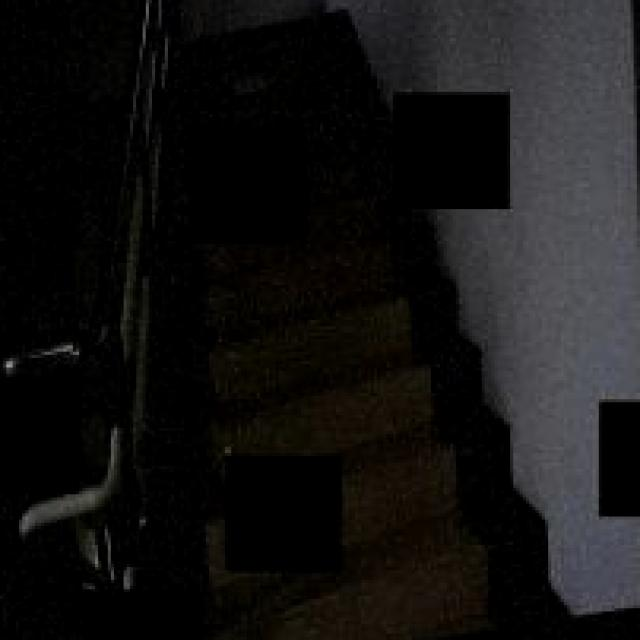upstair: (194, 251, 438, 432)
